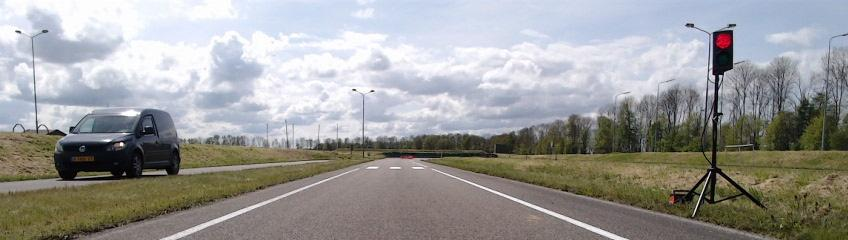TrafficLight-red: (712, 30, 733, 71)
